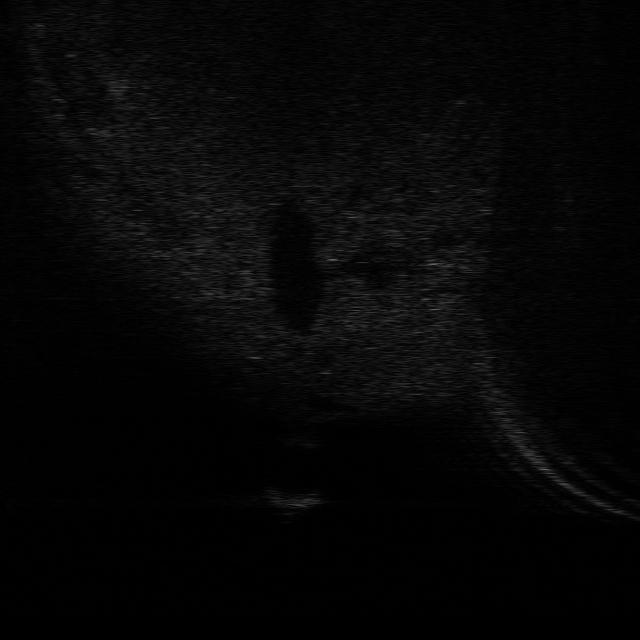cube: (258, 486, 328, 518)
